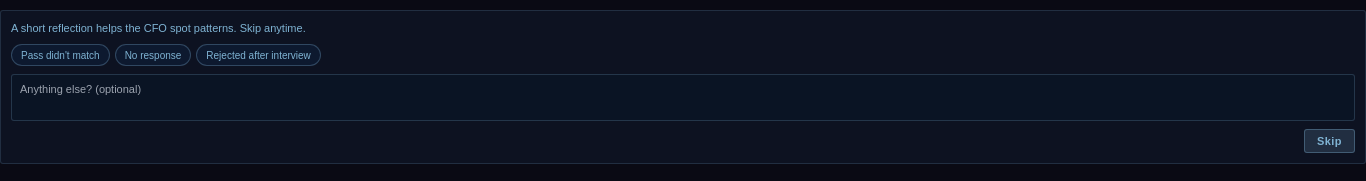
RejectionReflectionStrip — chip interaction › clicking a chip toggles the action button from 'Skip' to 'Save'
expect the button "Skip" is shown: met, box [1304,129,1355,153]
What coordinates should you click on to do the following:
click the button "No response"
I would click on:
 (153, 55)
Its box is [115,44,191,66].
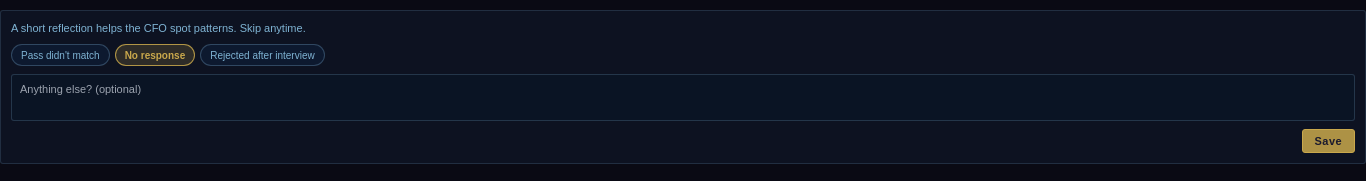
expect the button "Save" is shown: met, box [1302,129,1355,153]
